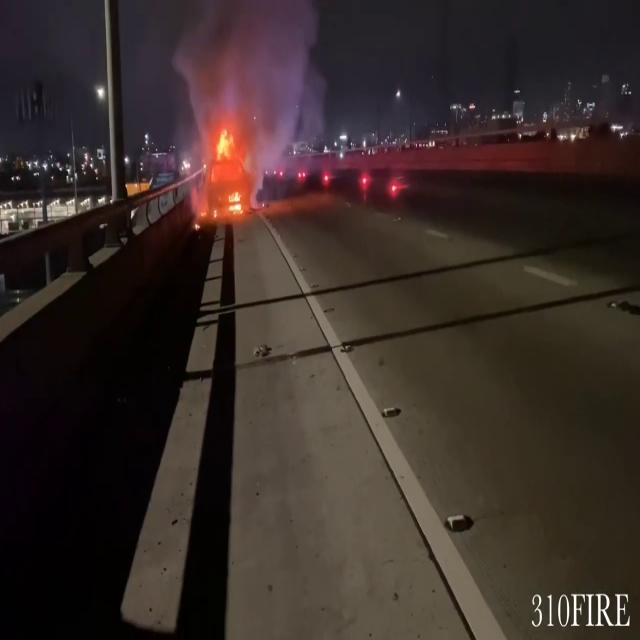Fire: (192, 125, 254, 218)
Smoke: (171, 0, 331, 179)
